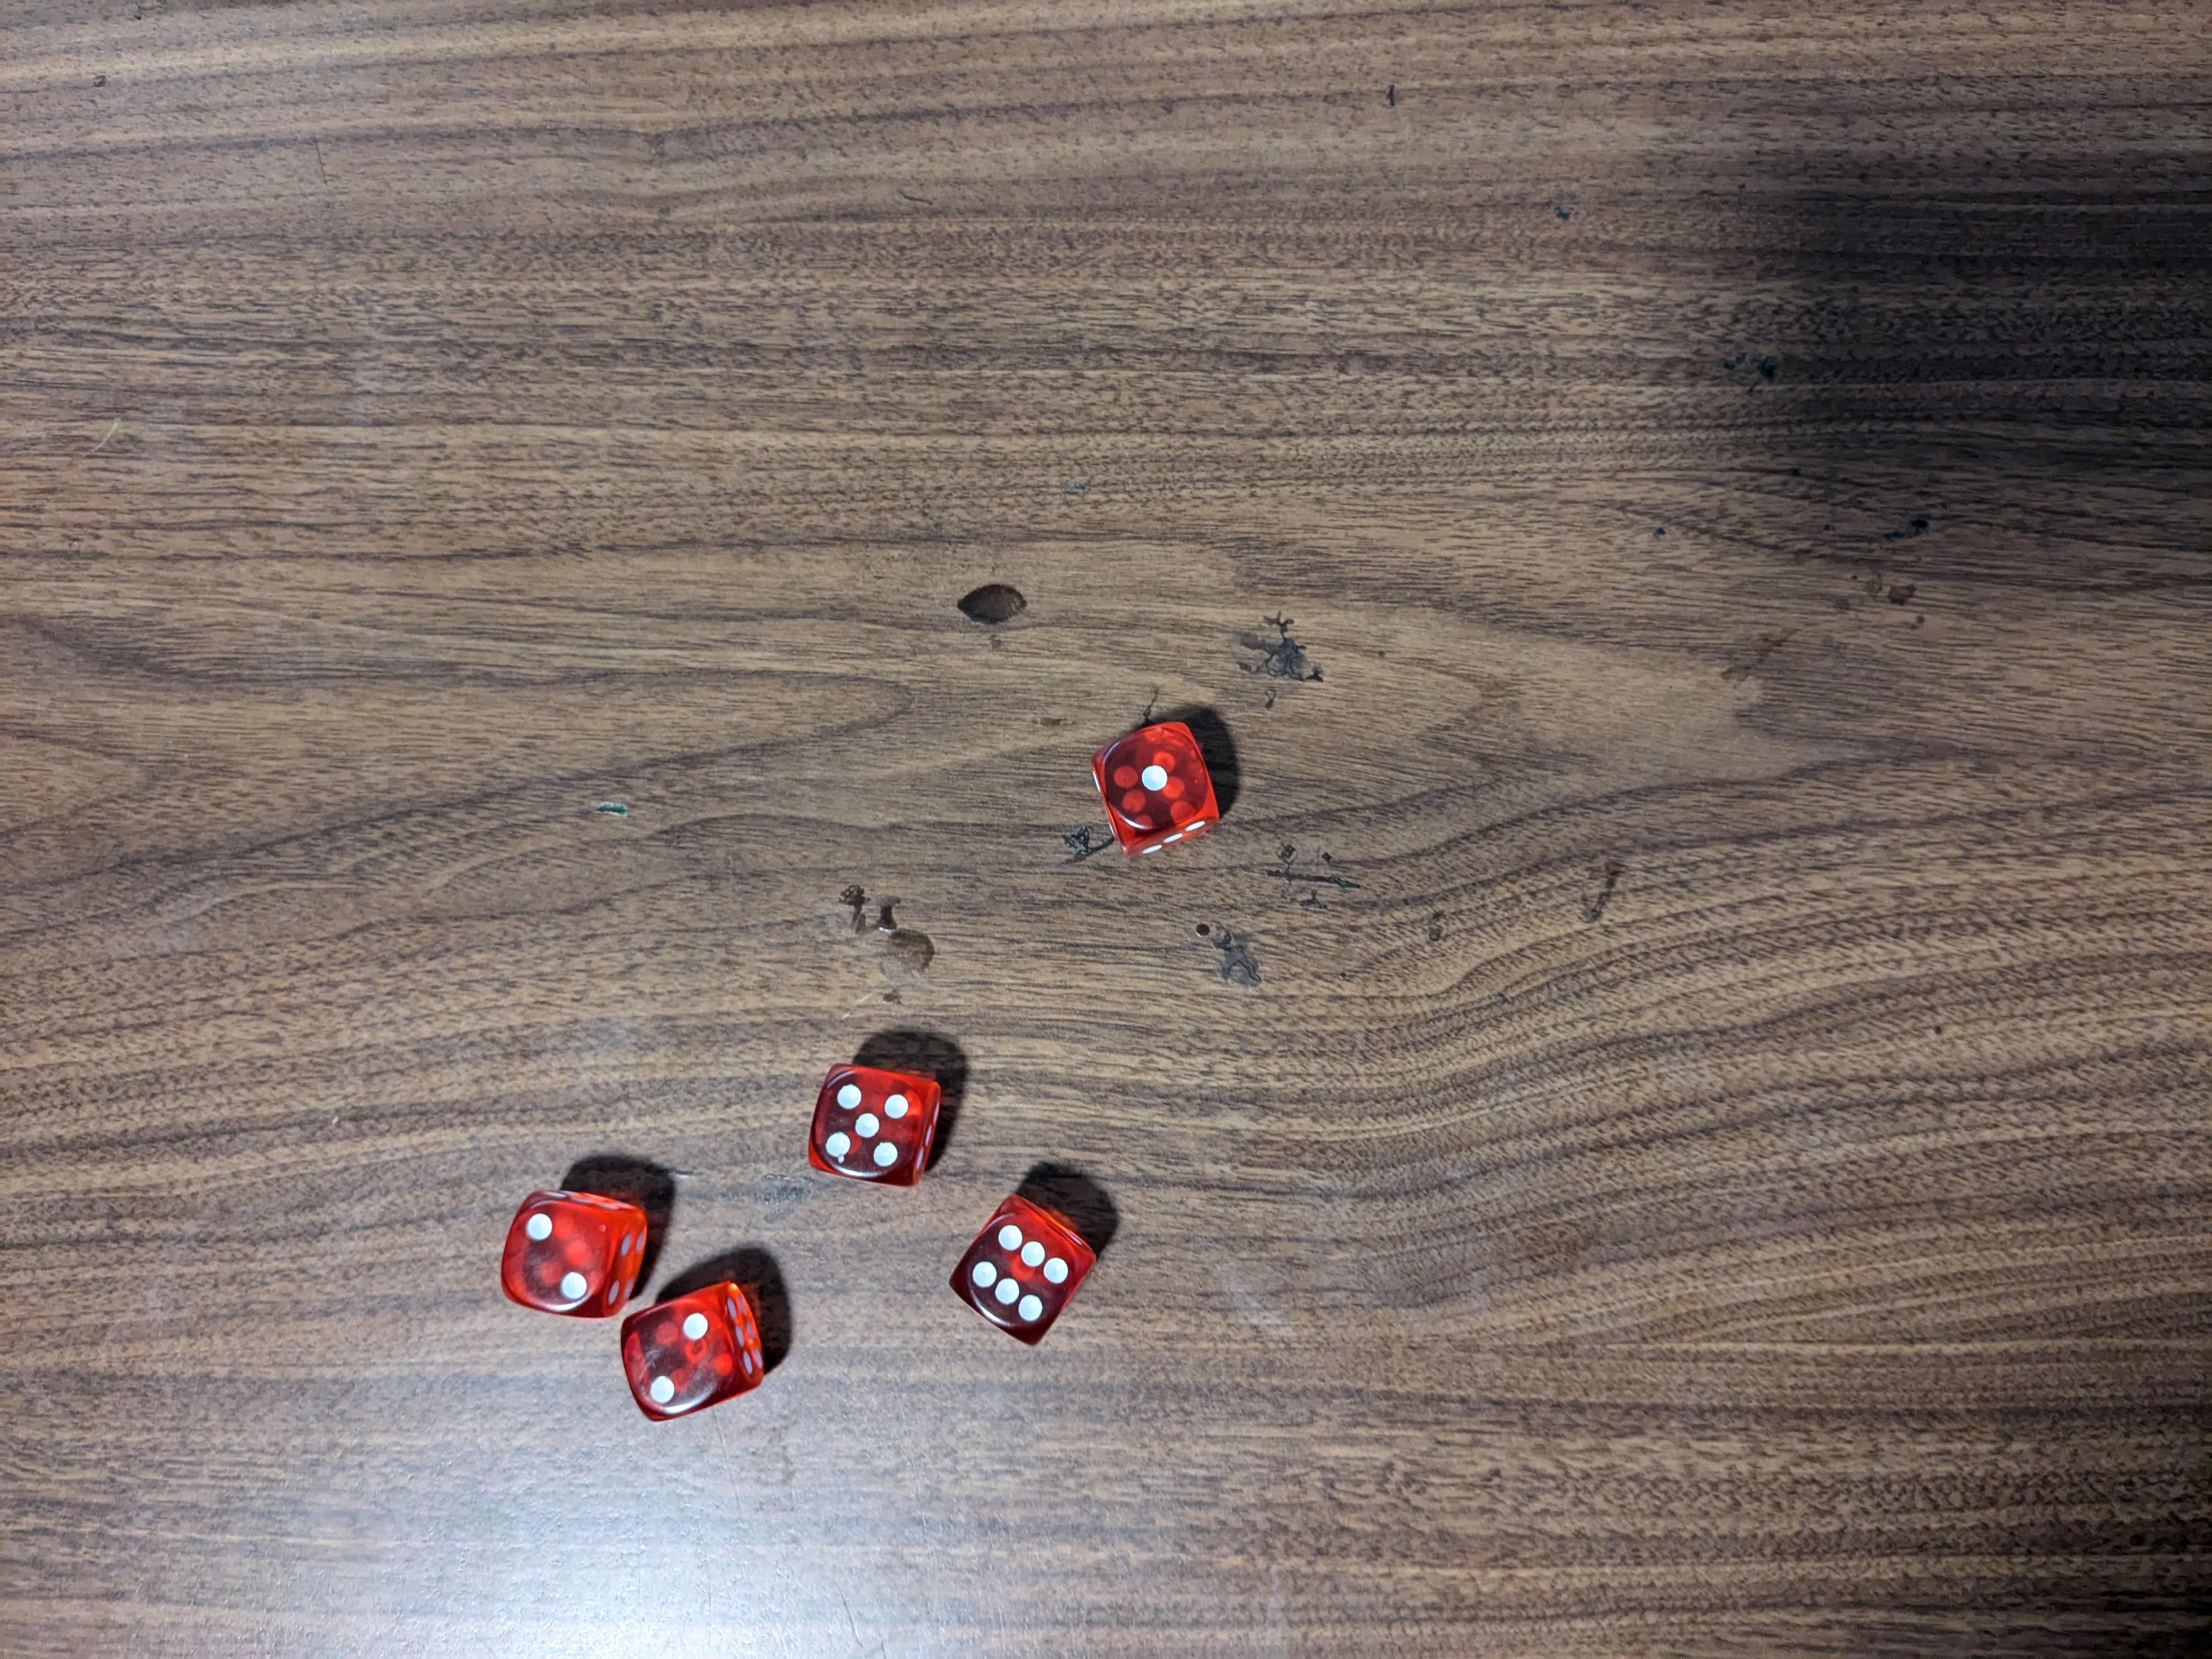five: (806, 1058, 953, 1190)
one: (1094, 716, 1226, 866)
six: (946, 1199, 1101, 1344)
two: (620, 1281, 768, 1425), (505, 1188, 648, 1319)
